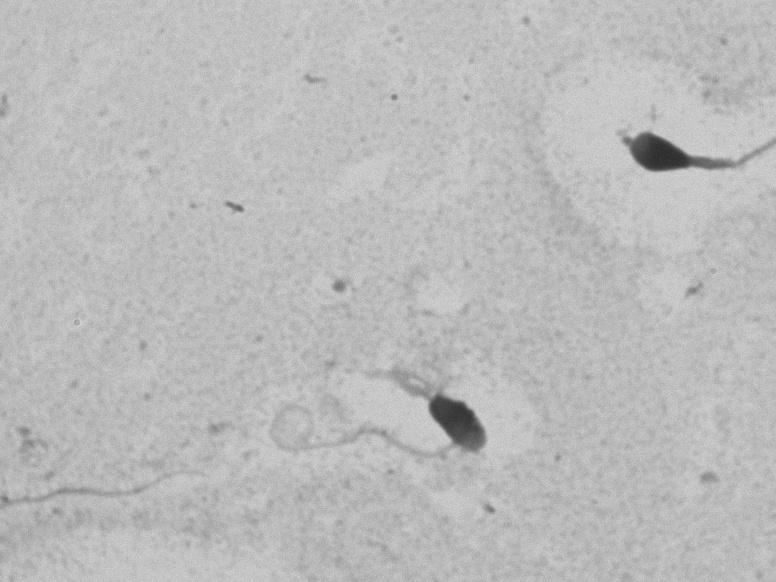Abnormal: (310, 324, 536, 508), (611, 95, 756, 207)
